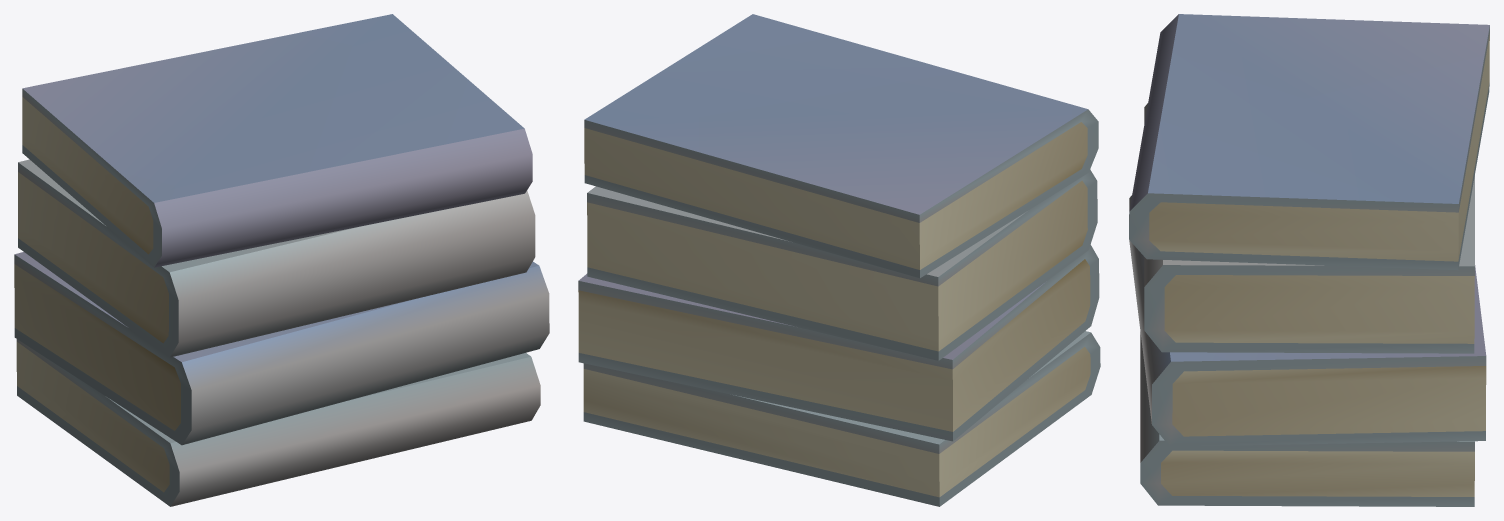
Rendered from Book_Stack_1.glb.
The picture shows the model from 3 angles, left to right: view 1: azimuth 30°, elevation 25°; view 2: azimuth 150°, elevation 25°; view 3: azimuth 270°, elevation 25°; orthographic projection. The views are drawn at different scales.
Parts seen in each view (by area): view 1: Book_Stack_1; view 2: Book_Stack_1; view 3: Book_Stack_1.
Part boxes in pixels (box(x1,y1,x2,y2)): Book_Stack_1: box(14, 14, 549, 506); Book_Stack_1: box(578, 14, 1100, 506); Book_Stack_1: box(1129, 14, 1489, 506).
Size of the model in its own units: 0.2849 by 0.2137 by 0.2263.
